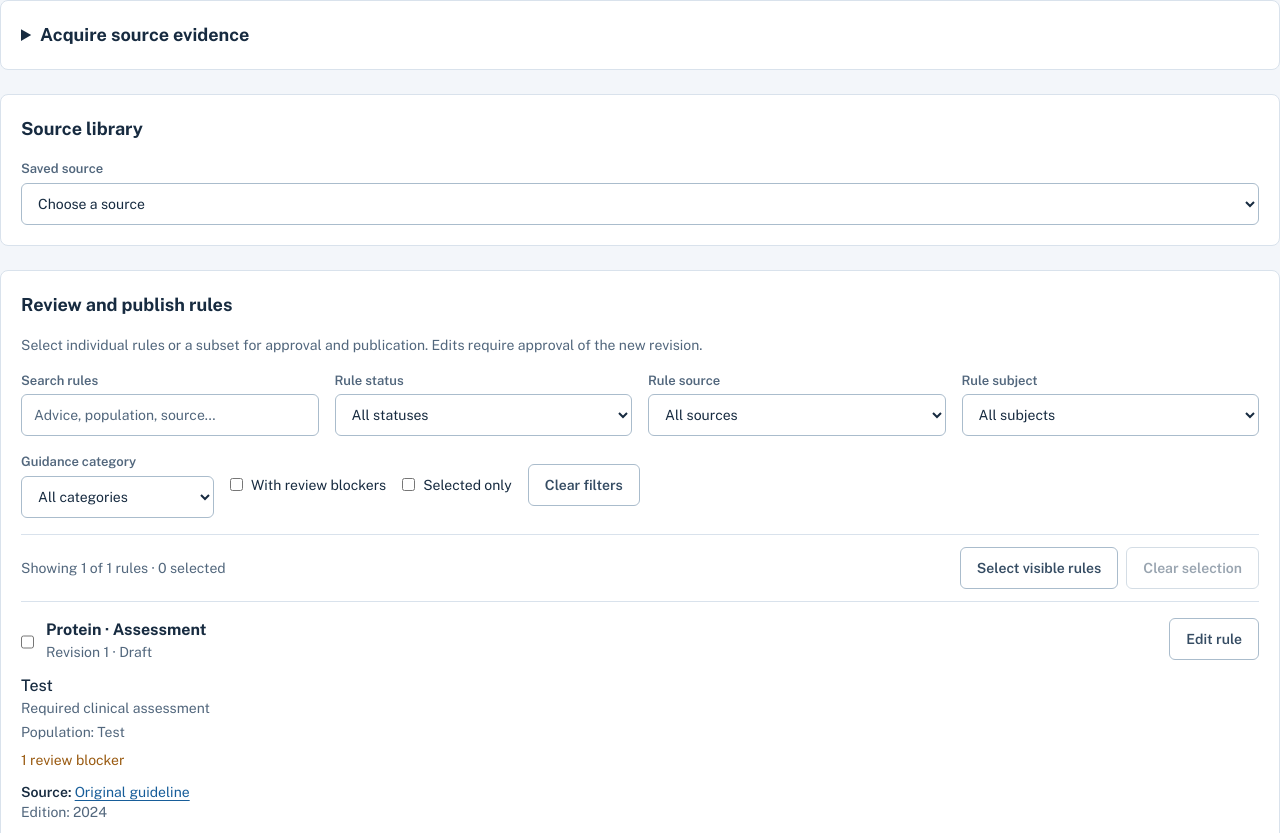
Test: rule list and editor identify the rule source even when a different source is selected
Select "Other guideline · 2026" in the dropdown labelled "Saved source" at (640, 204), box x1=21 y1=182 x2=1259 y2=224
(page scrolled)
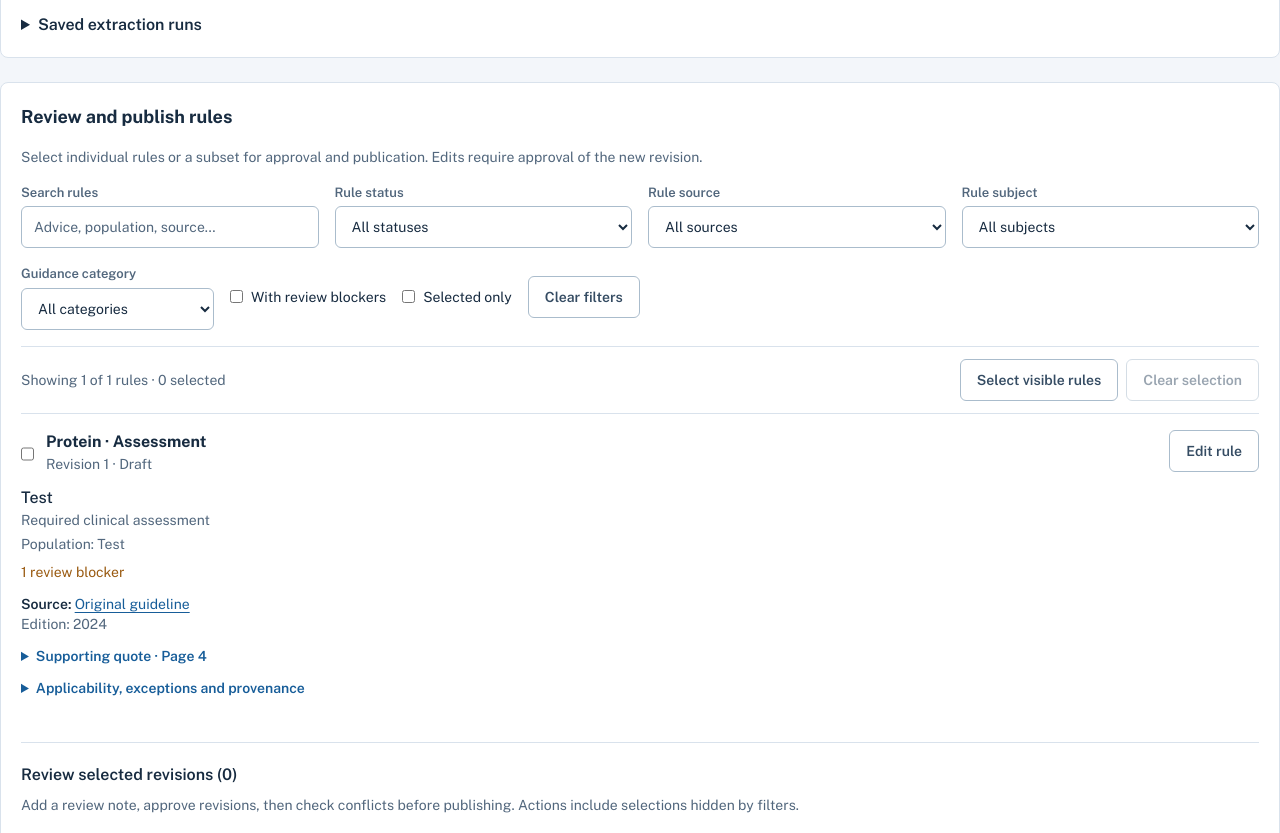
Click the button "Edit rule" at (1214, 450), box x1=1169 y1=430 x2=1259 y2=472
(page scrolled)
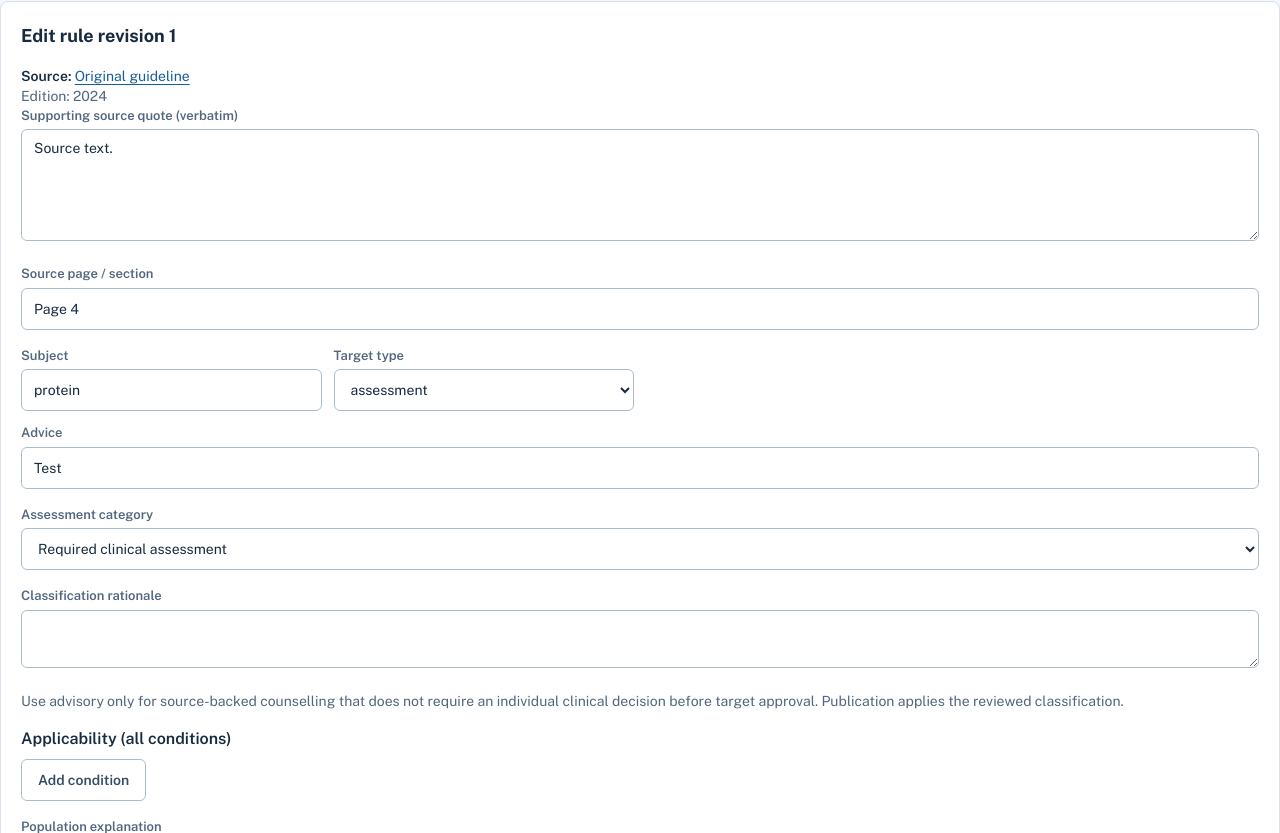
Expected: the number of links "Original guideline" is 2
Expected: the text "Edition: 2024" is shown 2 times
